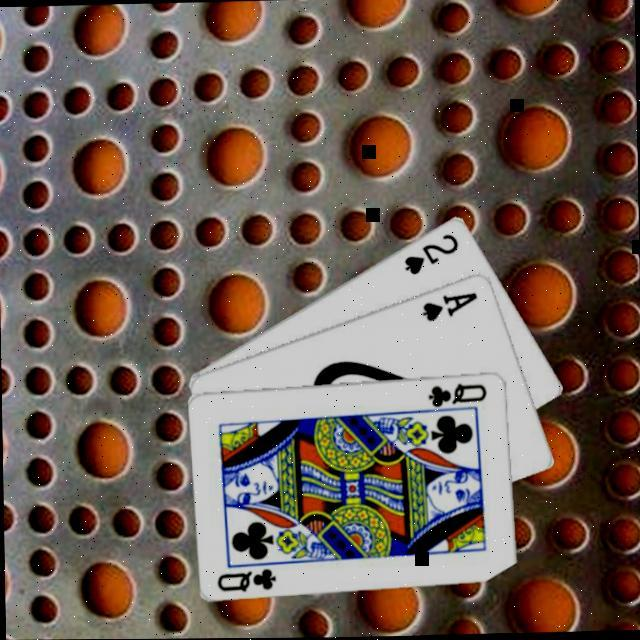2S: (400, 230, 461, 278)
AS: (418, 289, 481, 324)
QC: (214, 565, 278, 595), (425, 380, 489, 409)
